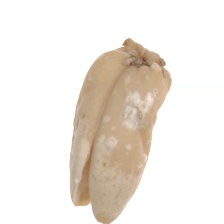L1: (69, 163, 110, 223), (119, 36, 167, 73)
L2: (68, 37, 173, 224)
